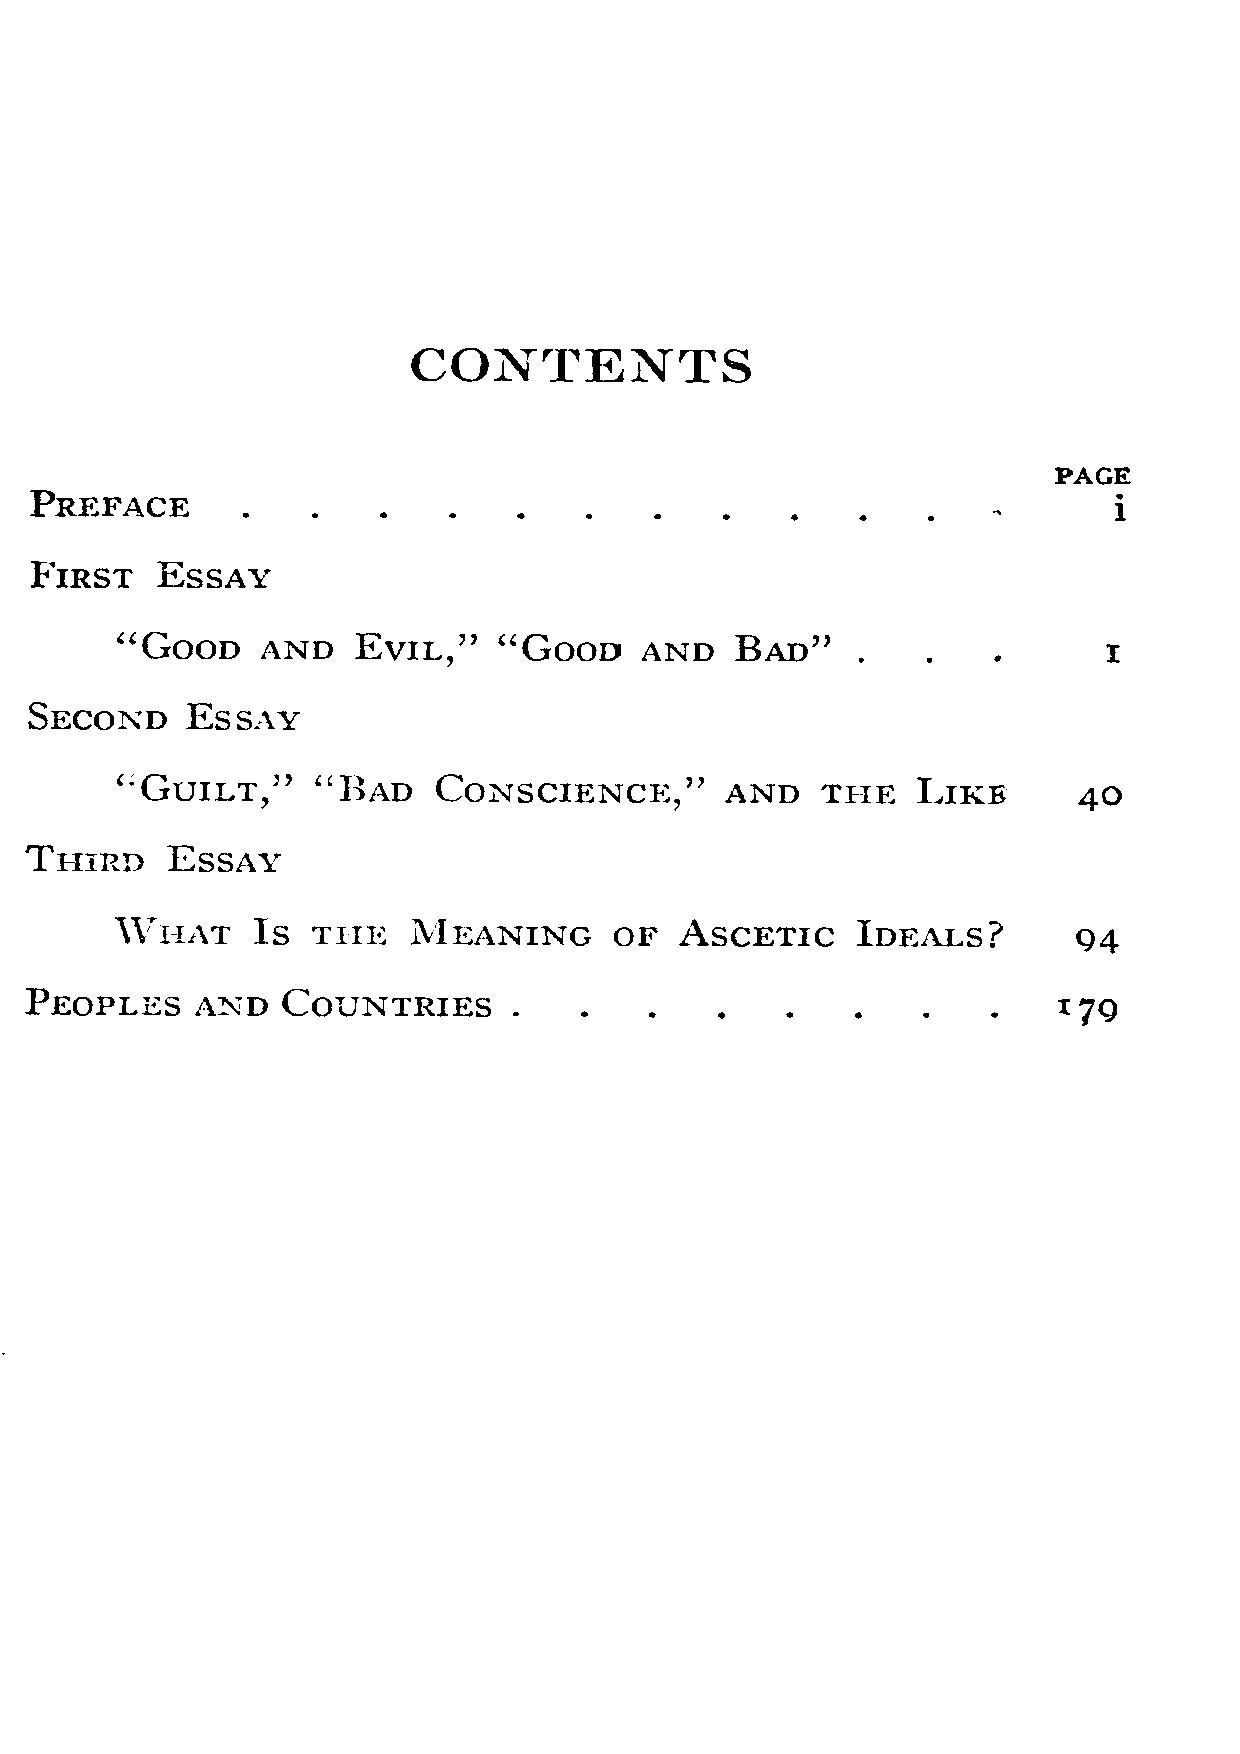TOC_chapter: (115, 760, 1017, 813), (101, 907, 1009, 954), (110, 621, 837, 671), (17, 981, 495, 1023), (21, 694, 309, 734), (28, 552, 272, 596), (21, 837, 286, 878), (24, 482, 193, 525)
TOC_pagenumber: (1057, 990, 1123, 1027), (1078, 778, 1125, 820), (1070, 929, 1121, 957), (1106, 487, 1137, 521), (1103, 637, 1125, 662)
chapter: (403, 338, 756, 389)
